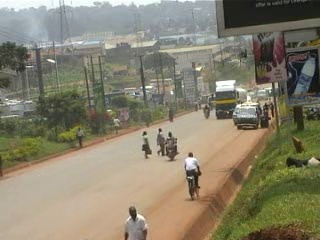Motorcycle: (163, 130, 179, 162), (202, 100, 211, 120)
